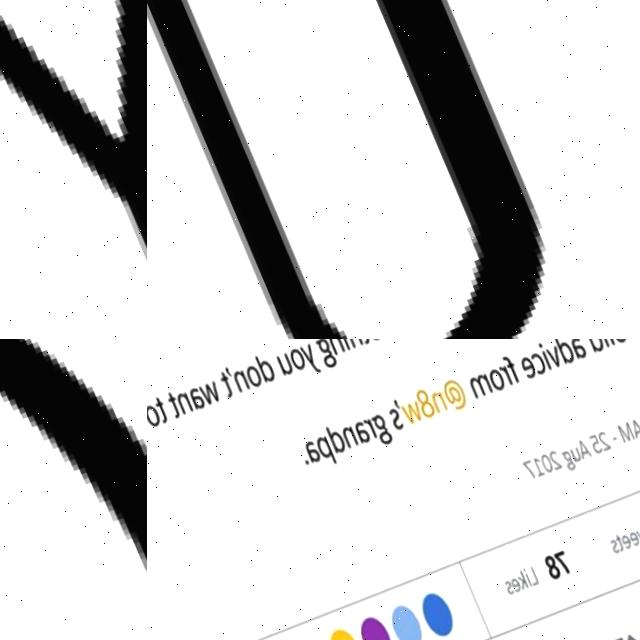1: (589, 428, 604, 449)
3: (554, 544, 575, 570), (523, 452, 539, 475)
4: (414, 382, 438, 416), (543, 548, 565, 577)
U: (147, 0, 637, 339)
Y: (0, 0, 147, 339)
